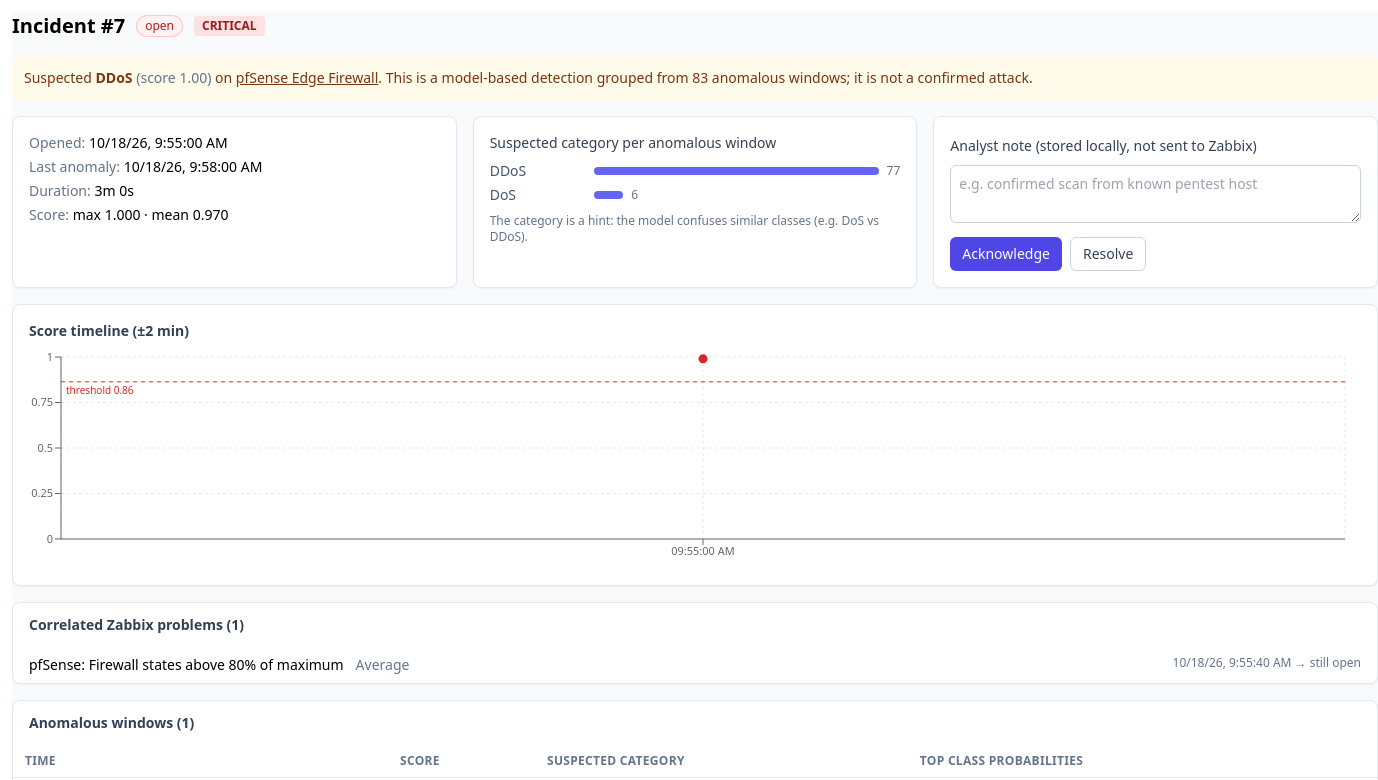
Scenario: Incident workflow › acknowledges an incident with a note (POST) and refreshes
The image size is (1378, 780).
Expected: the heading "Incident #7" is shown, x1=12 y1=12 x2=125 y2=40
Expected: the text "not a confirmed attack" is shown, x1=708 y1=68 x2=1033 y2=87
In the text box labelled "Analyst note (stored locally, not sent to Zabbix)": point(1156, 194) x1=950 y1=165 x2=1361 y2=223, type "pentest window"
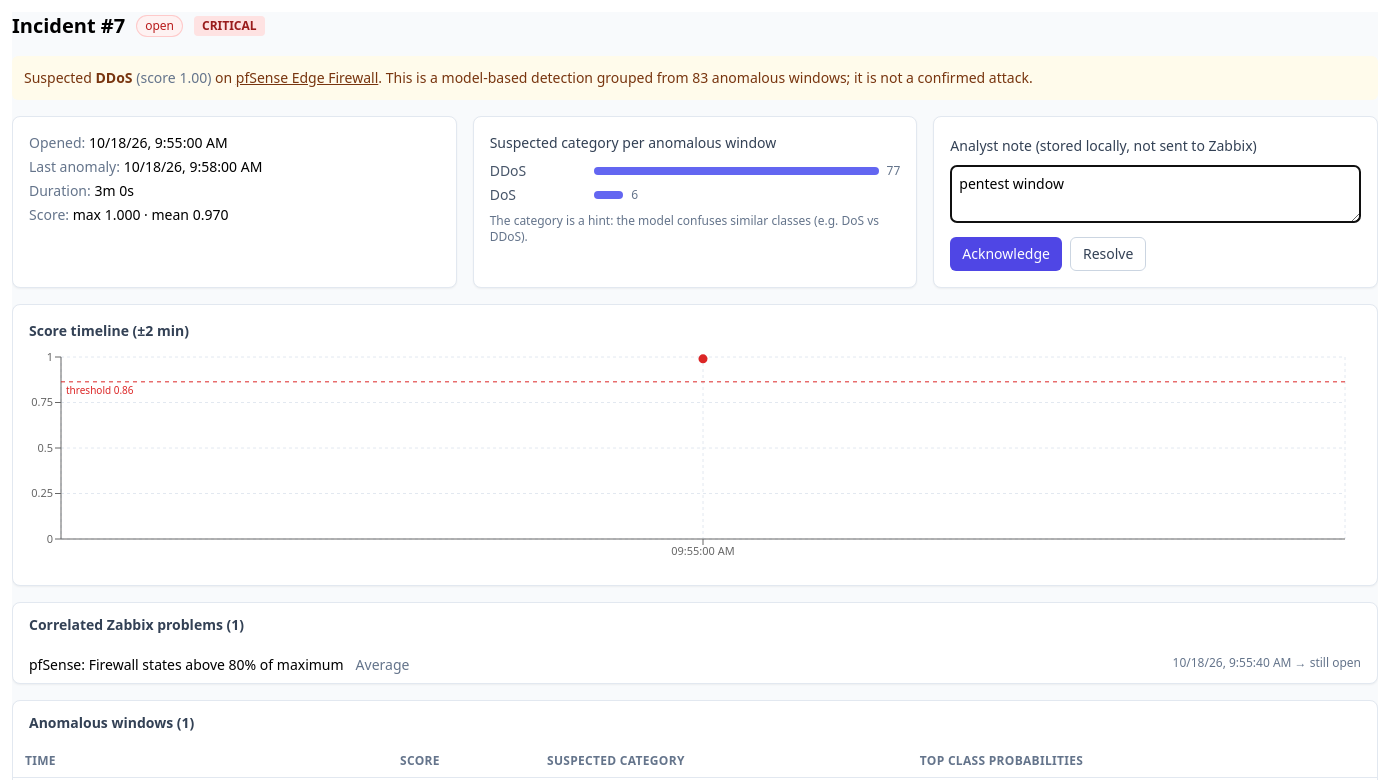
Click the button "Acknowledge": point(1006, 254) x1=950 y1=237 x2=1062 y2=271
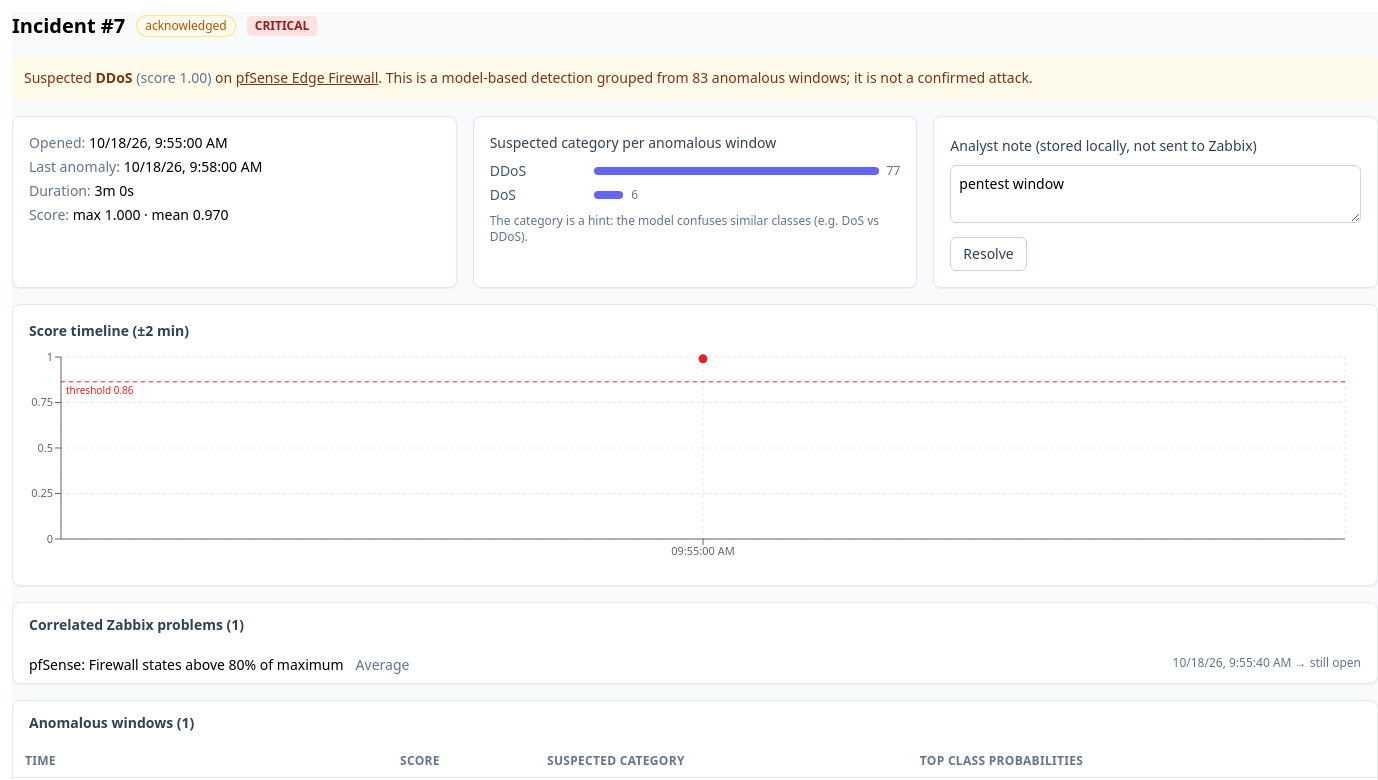
Expected: the text "acknowledged" is shown, x1=137 y1=16 x2=235 y2=36
